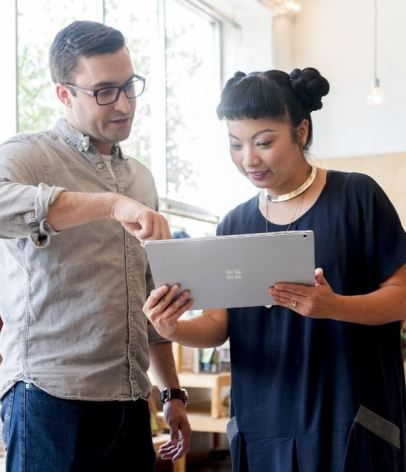Person: (141, 67, 406, 472), (1, 20, 192, 472)
